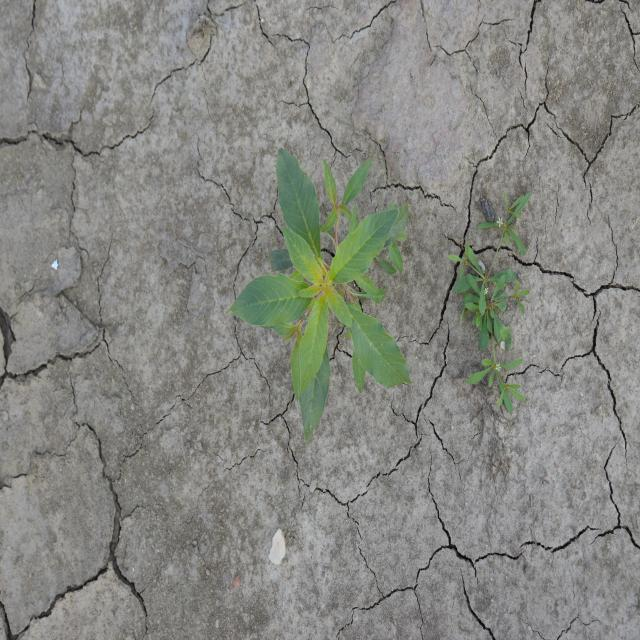Carpetweed: (446, 192, 532, 416)
Waterhemp: (224, 146, 414, 445)
